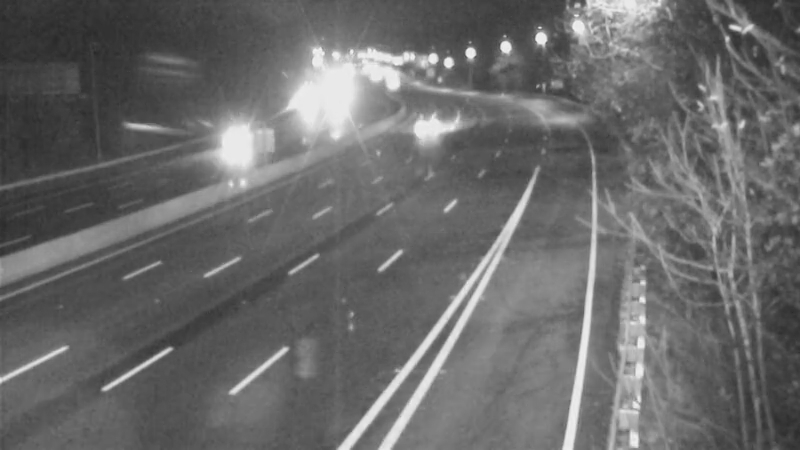vehicle: (401, 104, 451, 154), (203, 121, 253, 171)
